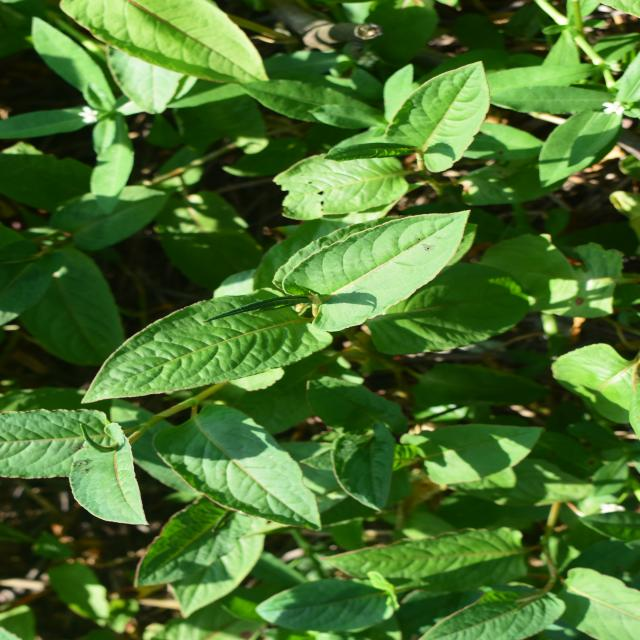Chinese_knotweed: (246, 103, 438, 497), (72, 12, 270, 328)
